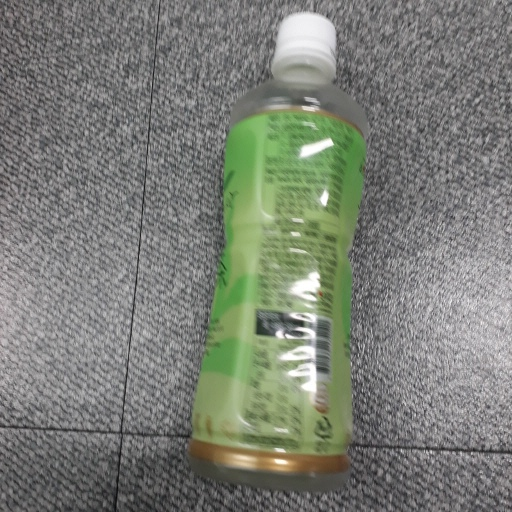Plastic_0: (187, 9, 370, 480)
